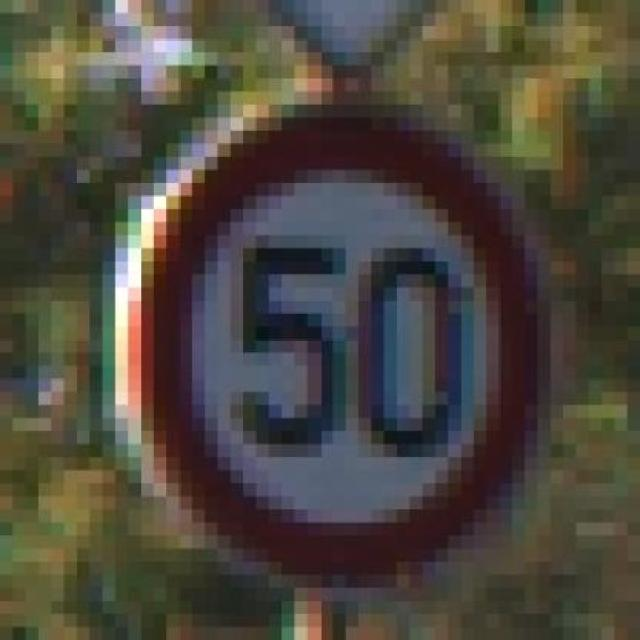forb_speed_over_50: (143, 107, 543, 585)
